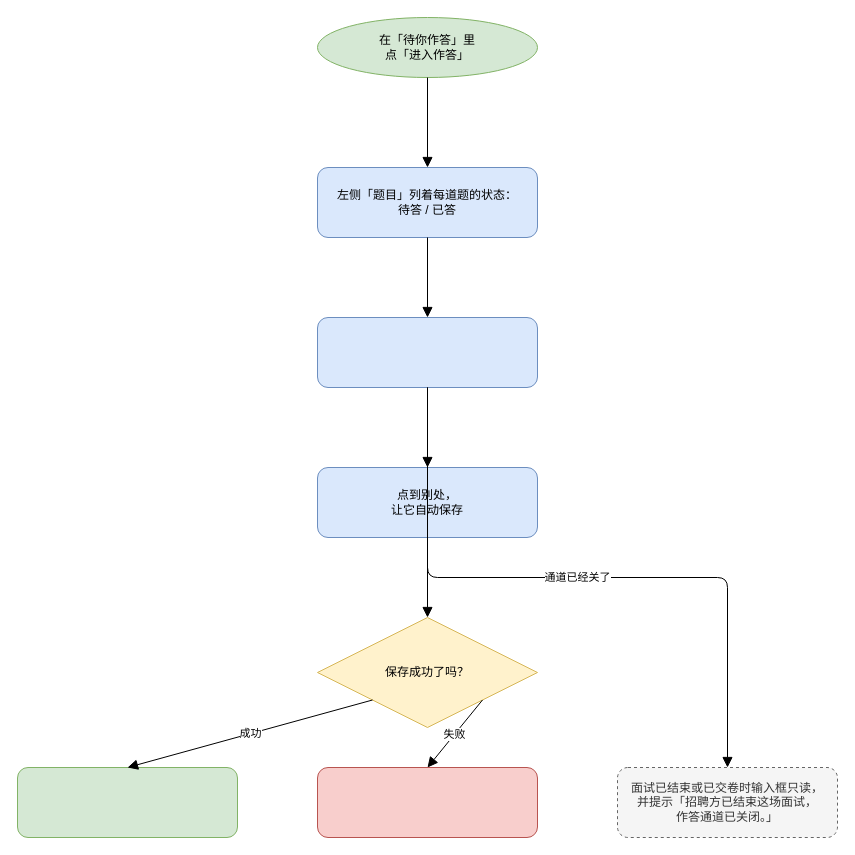
This 855x855 diagram has some shape labels left out. Each missing label, with the centre of its shape:
在「我的回答」里写答案: [427,352]
显示「保存失败」并弹出提示: [427,802]
显示「已保存」， 上方「已答 N / N」跟着变: [127,802]
